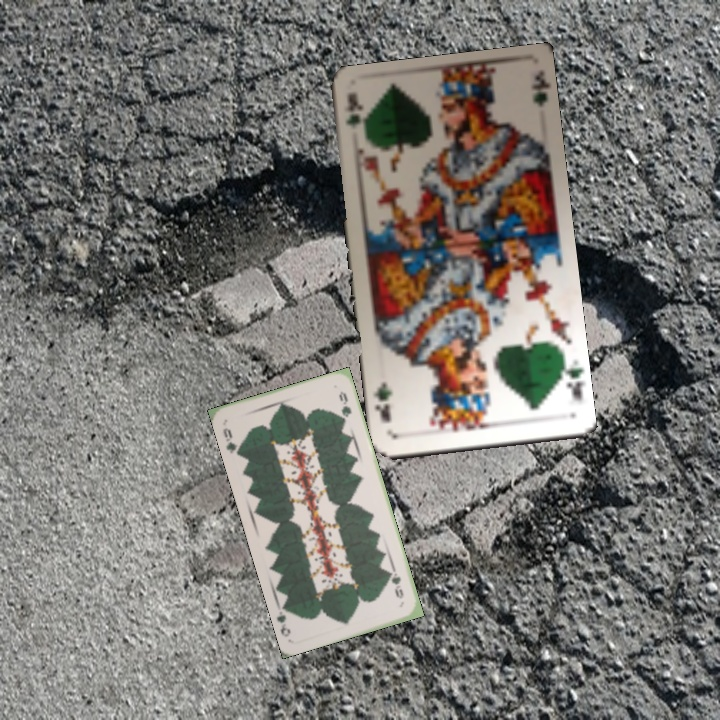G9: (219, 423, 242, 458), (386, 565, 406, 601)
GK: (556, 356, 585, 404), (342, 90, 364, 131)
